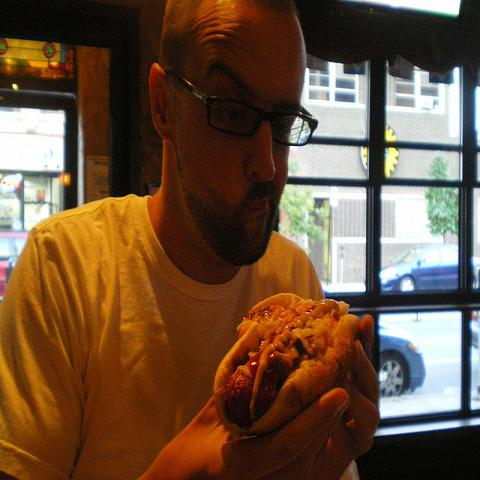car: (379, 242, 479, 294), (378, 326, 428, 398), (1, 231, 29, 302)
